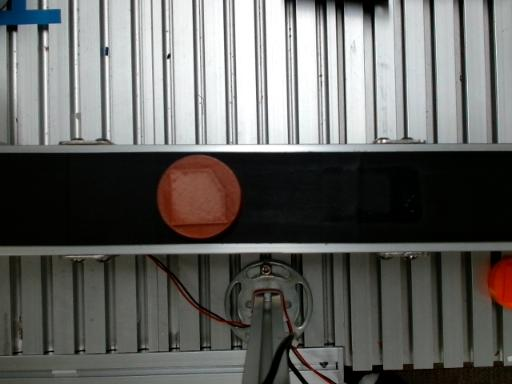Brown_Waper: (157, 155, 241, 238)
Not_Square: (169, 168, 228, 225)
